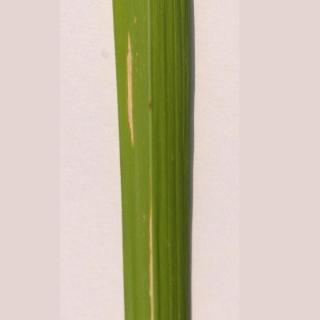Hawar-Daun: (106, 19, 173, 320)
